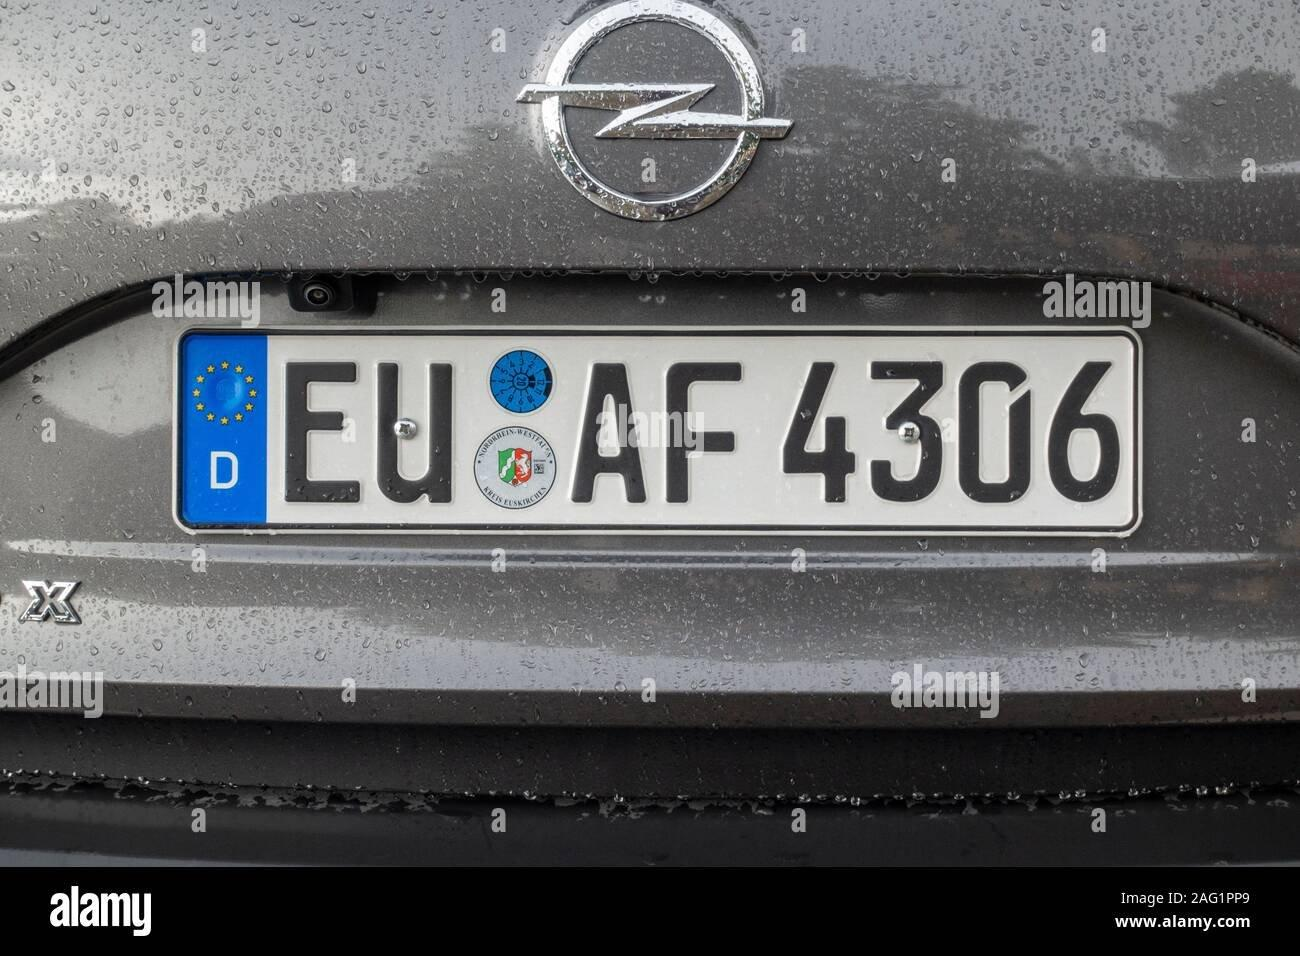Liscence Plate: (181, 332, 1139, 543)
